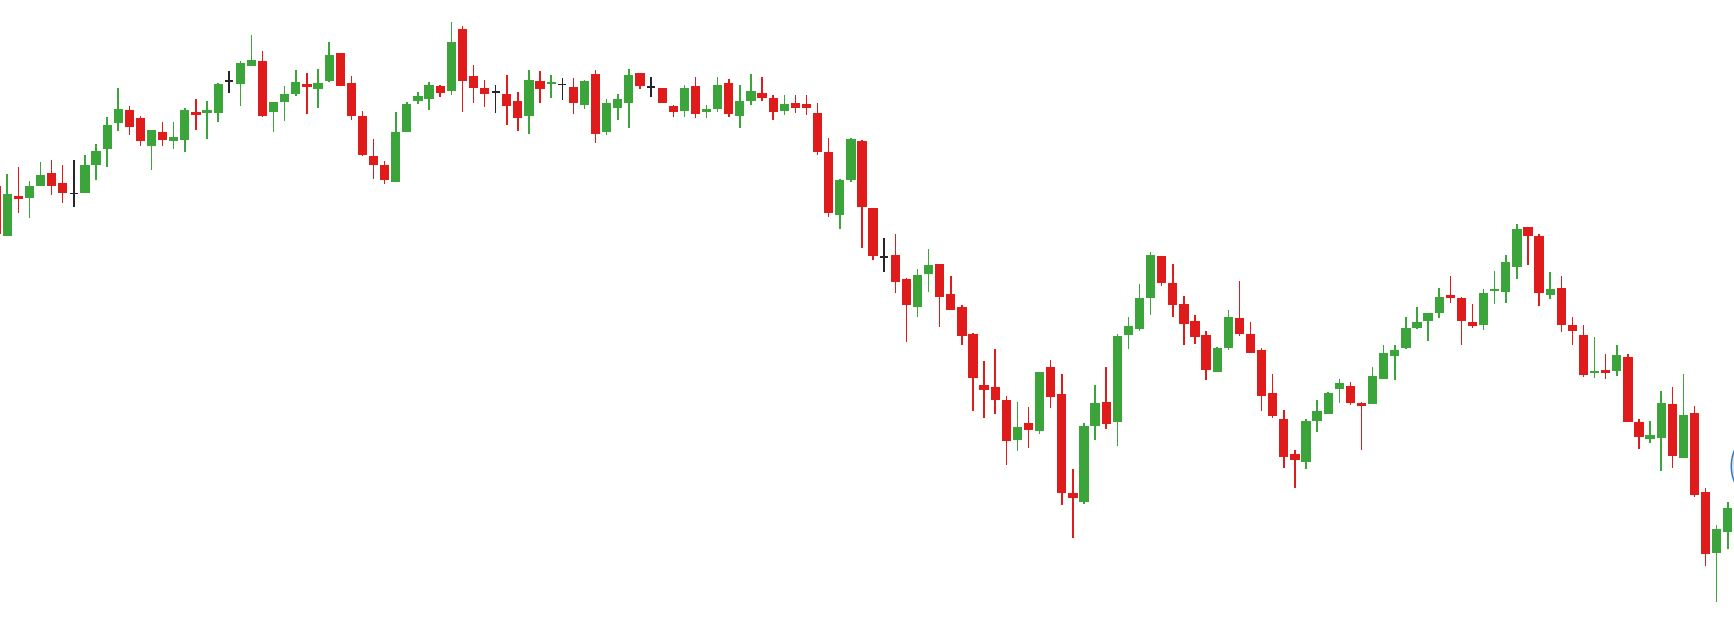buy: (1111, 340, 1312, 491), (145, 97, 401, 186), (1001, 391, 1090, 546)
